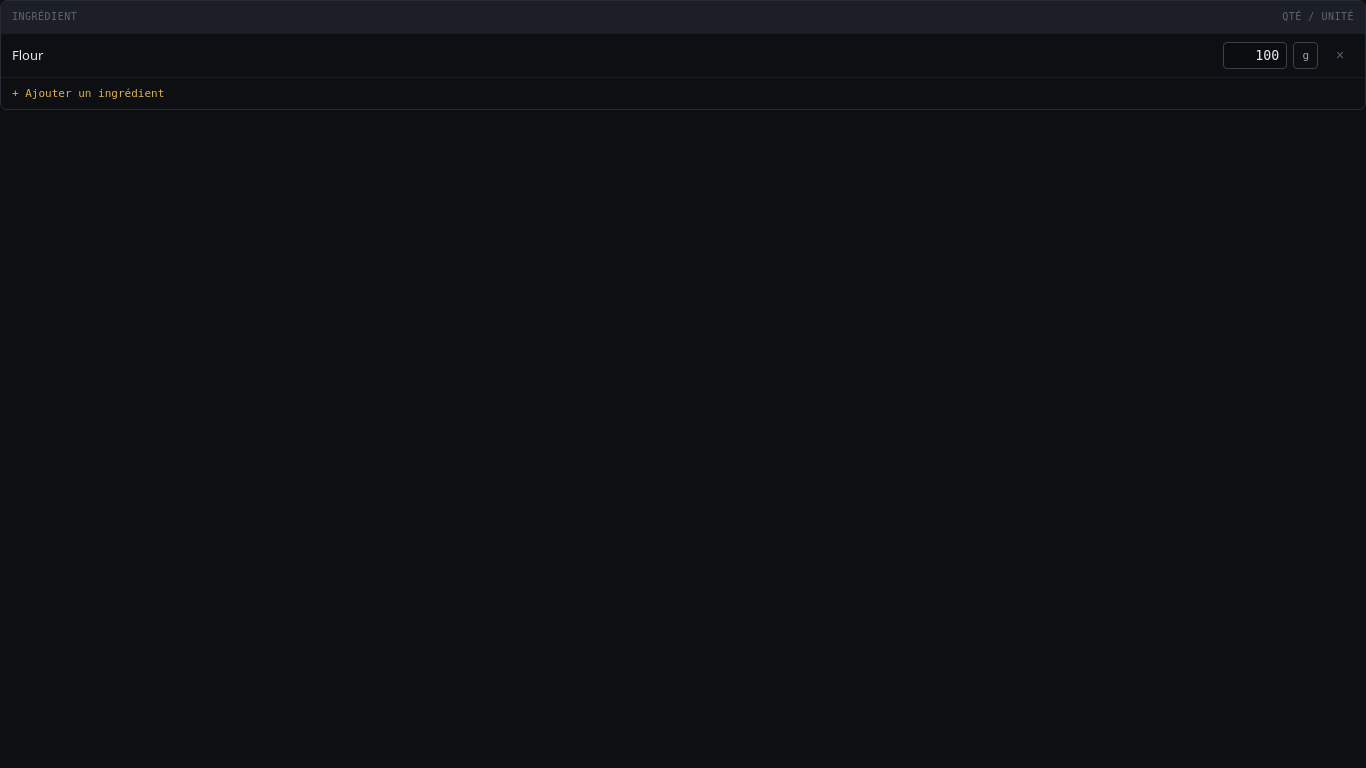
Test case: IngredientBlock — picker sheet on phones (MOB-1) › opens the sheet on an existing line and keeps the line visible
Click the text "Flour" at [28, 55], box x1=12 y1=46 x2=43 y2=64
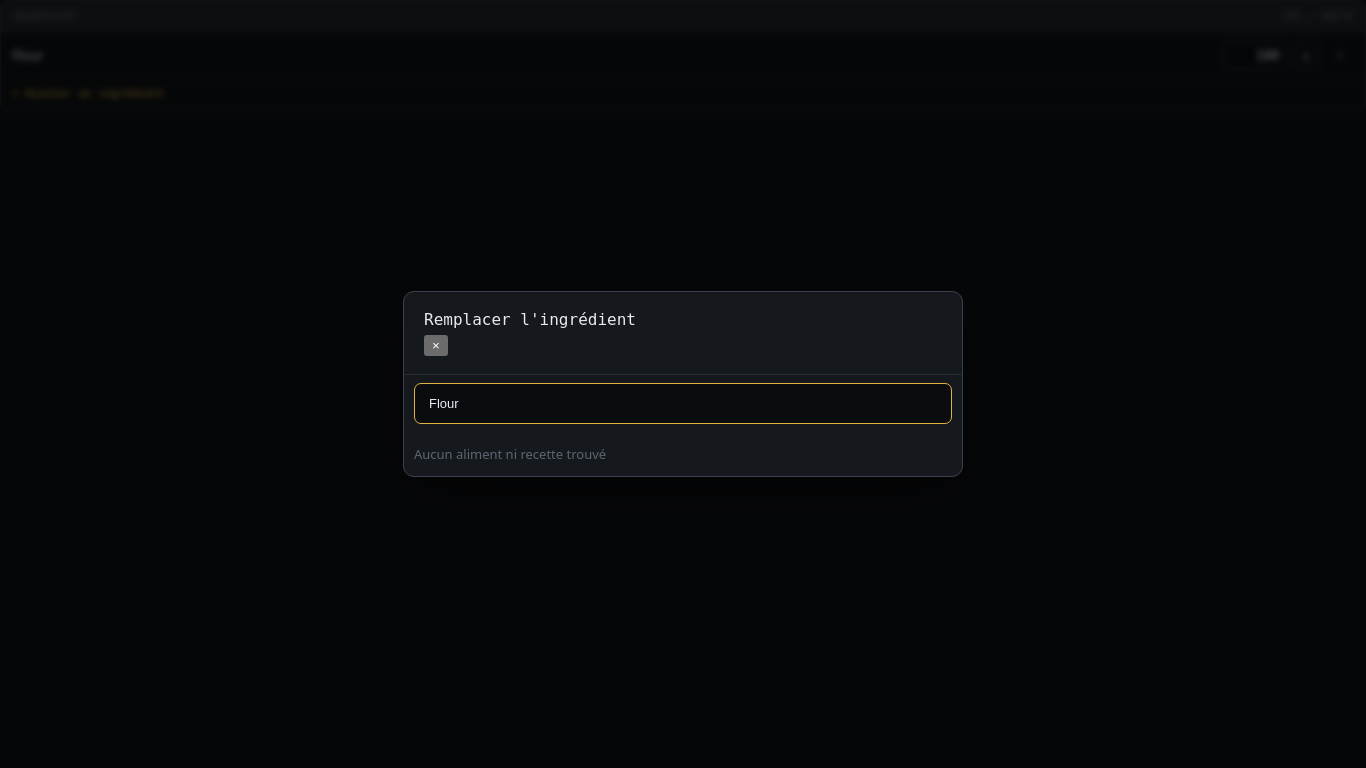
Expected: the dialog is shown, x1=403 y1=291 x2=963 y2=477
Expected: the text "Remplacer l'ingrédient" is shown, x1=424 y1=310 x2=636 y2=329
